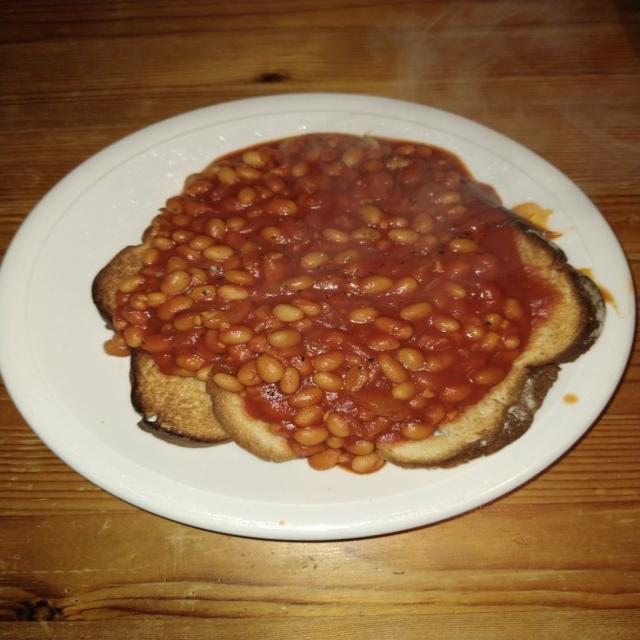beans: (110, 135, 530, 472), (378, 353, 407, 382), (256, 355, 285, 382), (289, 387, 324, 408), (161, 271, 191, 293), (267, 329, 301, 348), (351, 453, 383, 473), (313, 351, 345, 371), (213, 372, 244, 392), (400, 302, 433, 320), (360, 276, 393, 294), (294, 427, 328, 444), (398, 348, 424, 370), (313, 372, 342, 391), (273, 305, 305, 322), (300, 252, 330, 270), (280, 366, 299, 394), (217, 284, 249, 300), (282, 275, 313, 291), (348, 307, 378, 323), (388, 229, 419, 244), (449, 238, 479, 253)
sliced bread: (378, 219, 604, 467), (131, 352, 226, 444), (209, 383, 300, 461), (92, 244, 147, 324)
